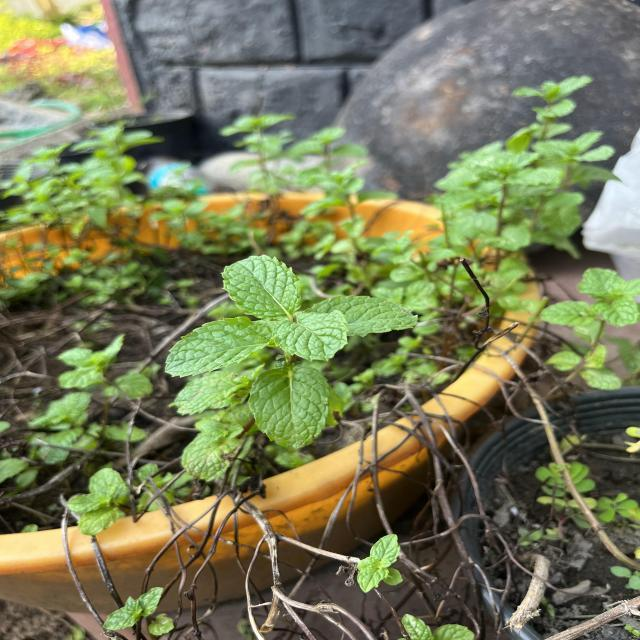Mentha spicata: (246, 366, 332, 450), (164, 316, 274, 379), (219, 254, 303, 321), (271, 311, 350, 364)
